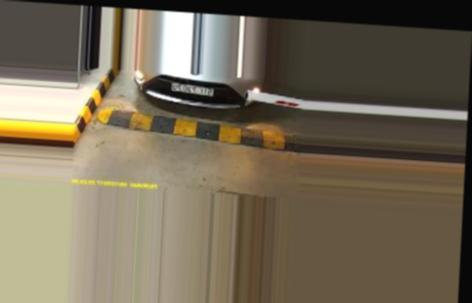License_Plate: (171, 82, 215, 97)
